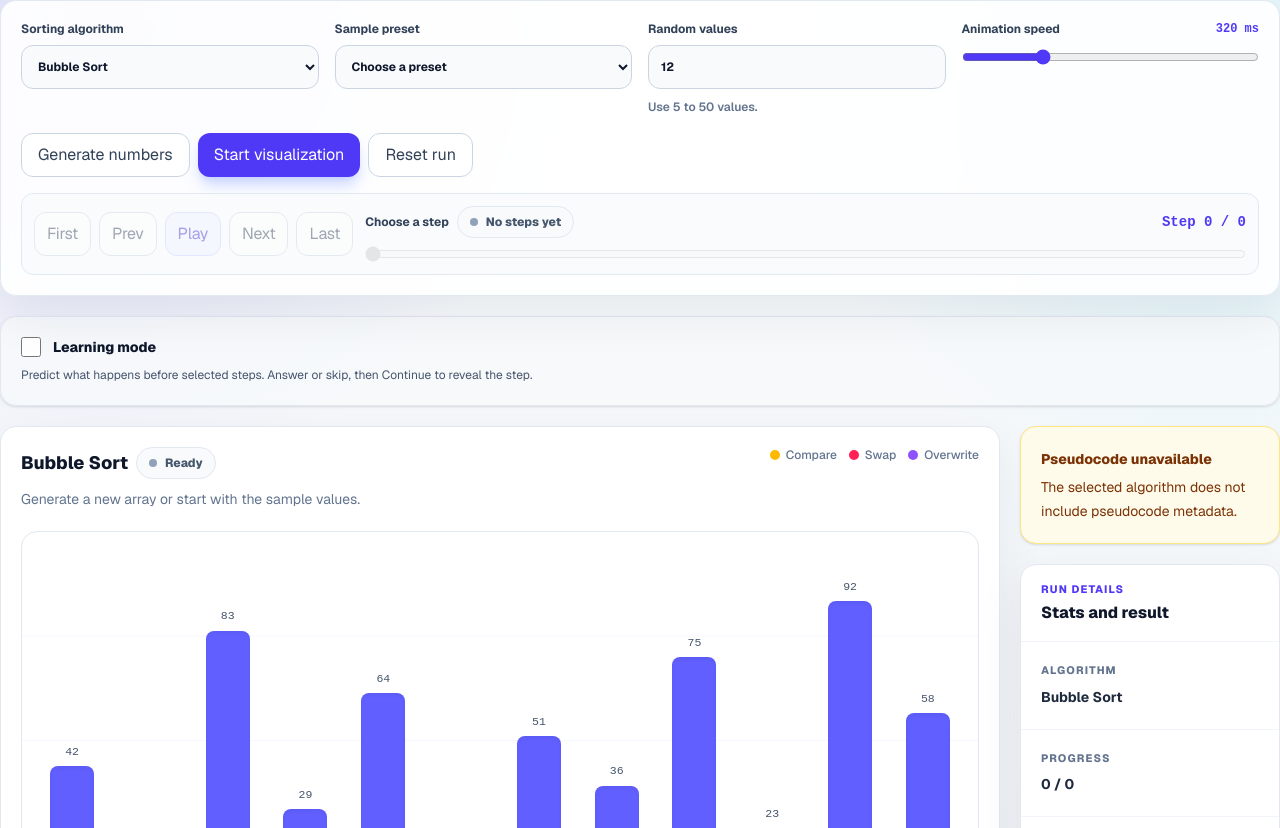
Scenario: visualizer learning integration › wires learning checkpoints and reset in sorting
The image size is (1280, 828).
Click the checkbox labelled "Learning mode" at (31,347), box x1=21 y1=337 x2=41 y2=357
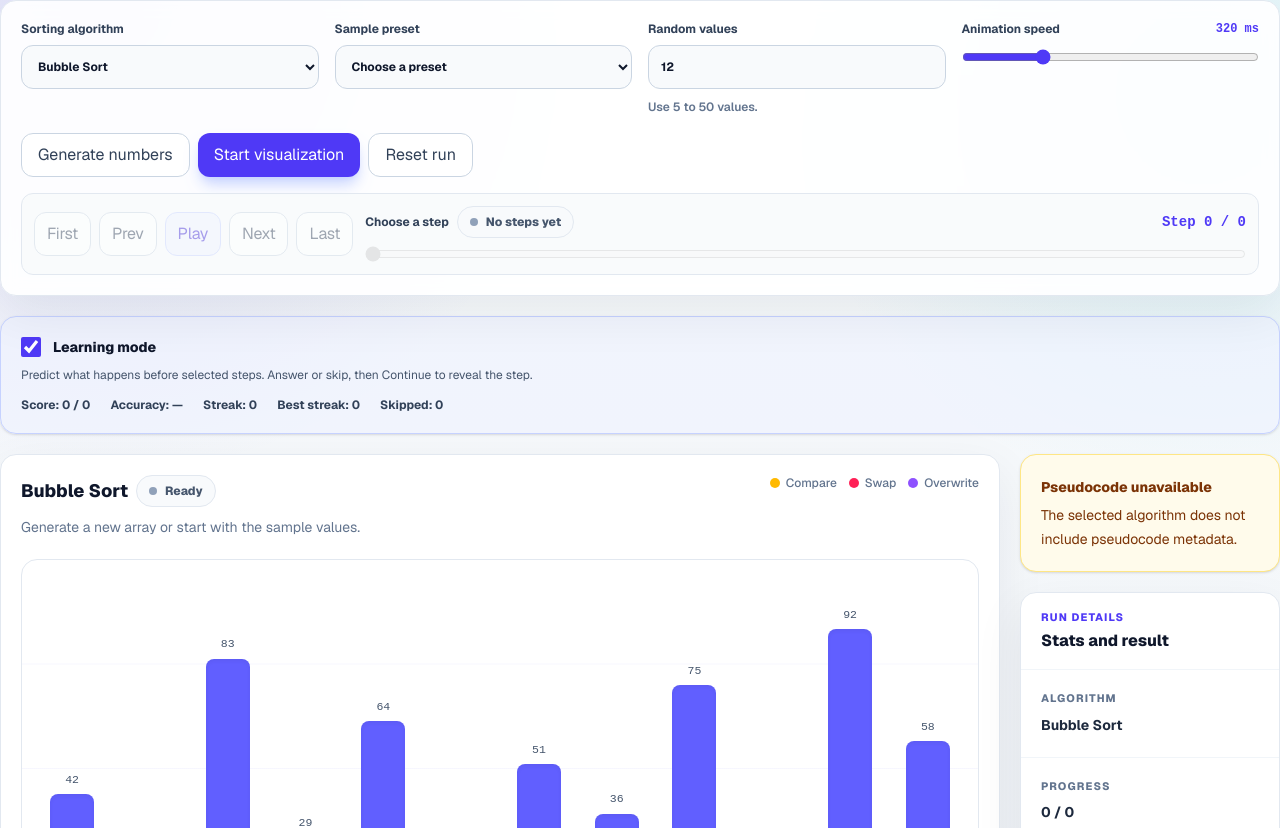
Click the button "Start visualization" at (279,155), box x1=198 y1=133 x2=360 y2=177
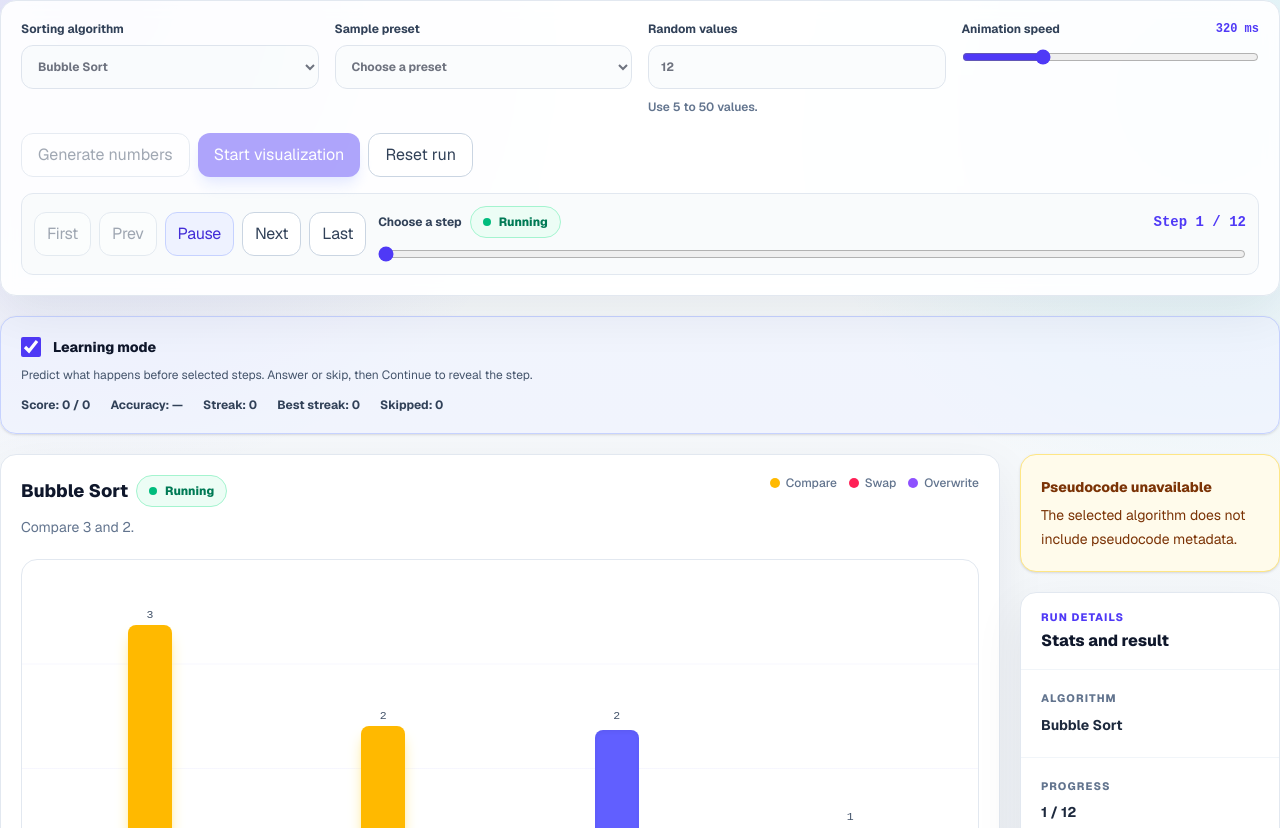
Now the button with aria-label "Jump to last step" is enabled
Click the button with aria-label "Jump to last step" at (338,234), box x1=309 y1=212 x2=366 y2=256
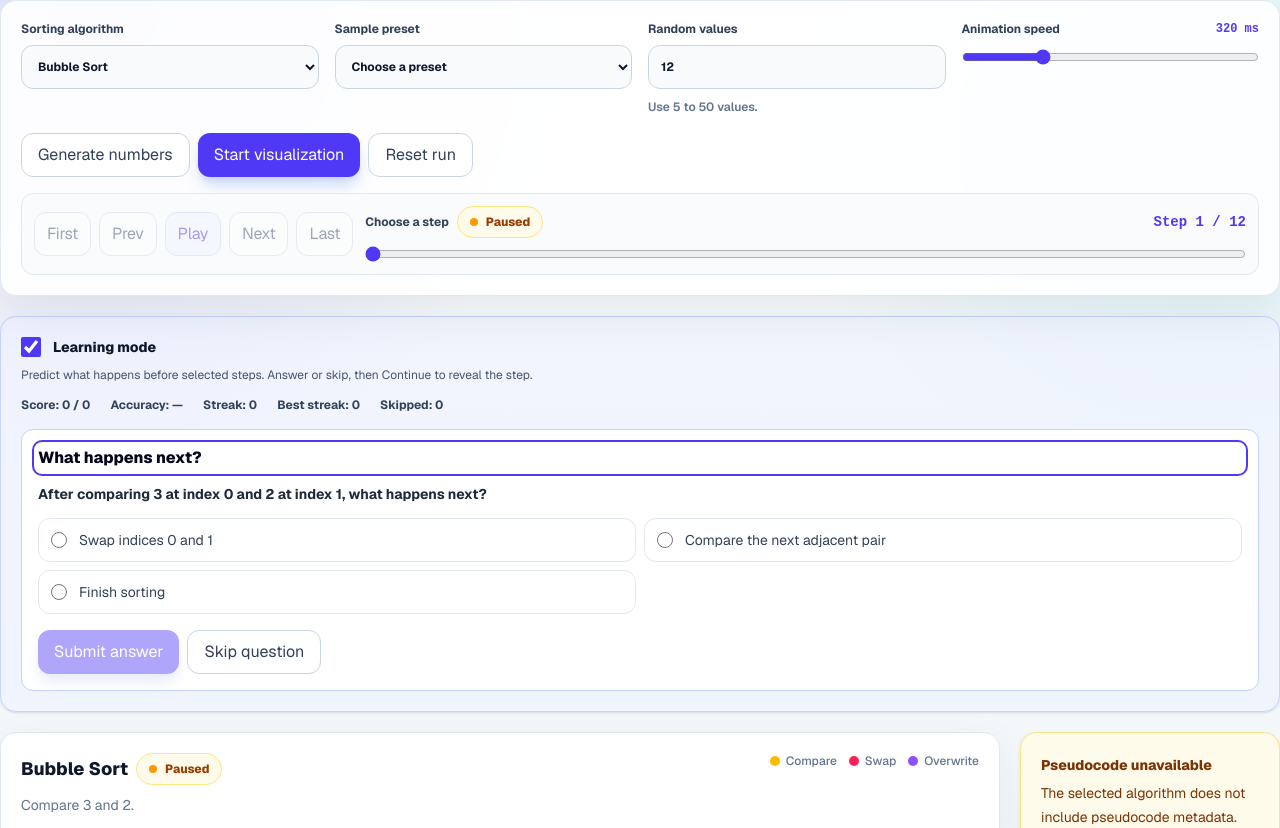
Now the heading "What happens next?" is shown, box x1=38 y1=447 x2=202 y2=468
Click the button "Skip question" at (254,652), box x1=187 y1=630 x2=321 y2=674
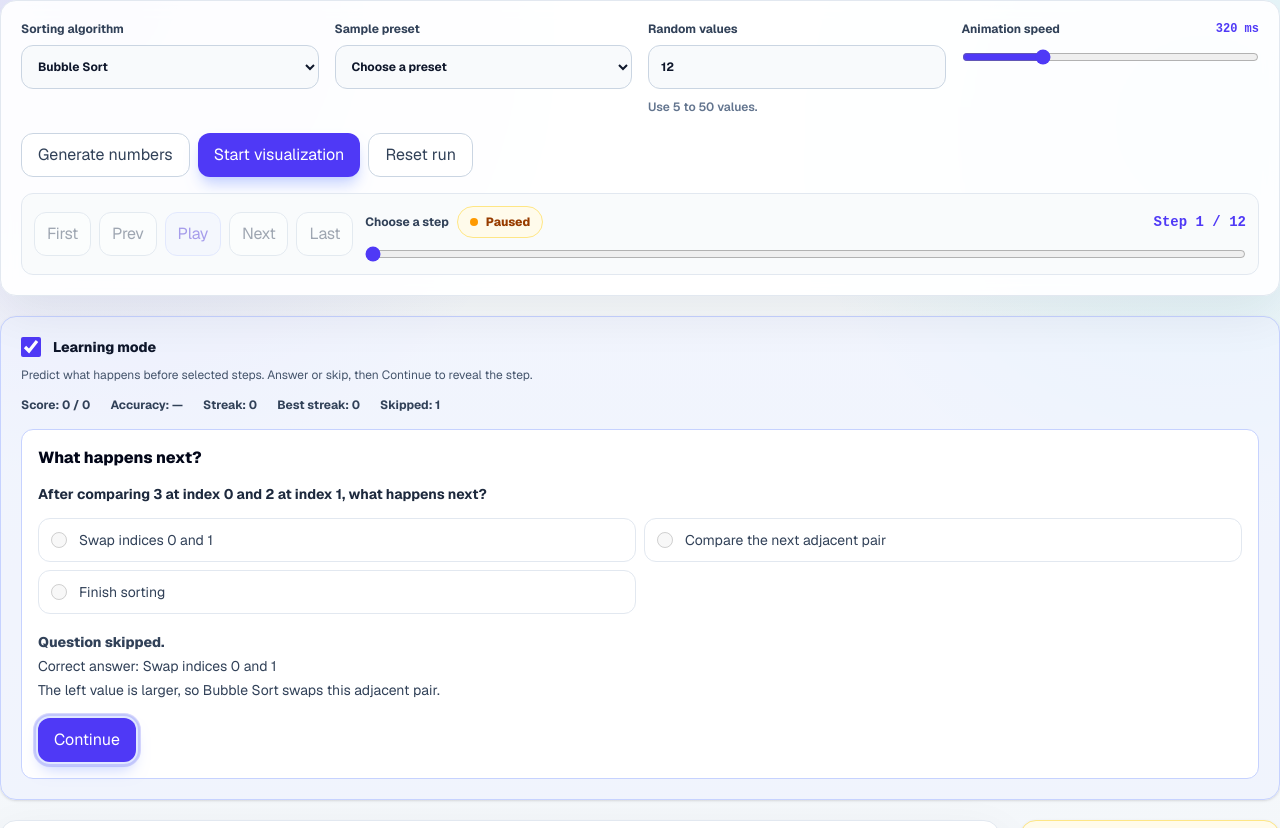
Now the text "Skipped: 1" is shown, box x1=380 y1=397 x2=440 y2=413
Click the button "Continue" at (87,740), box x1=38 y1=718 x2=136 y2=762
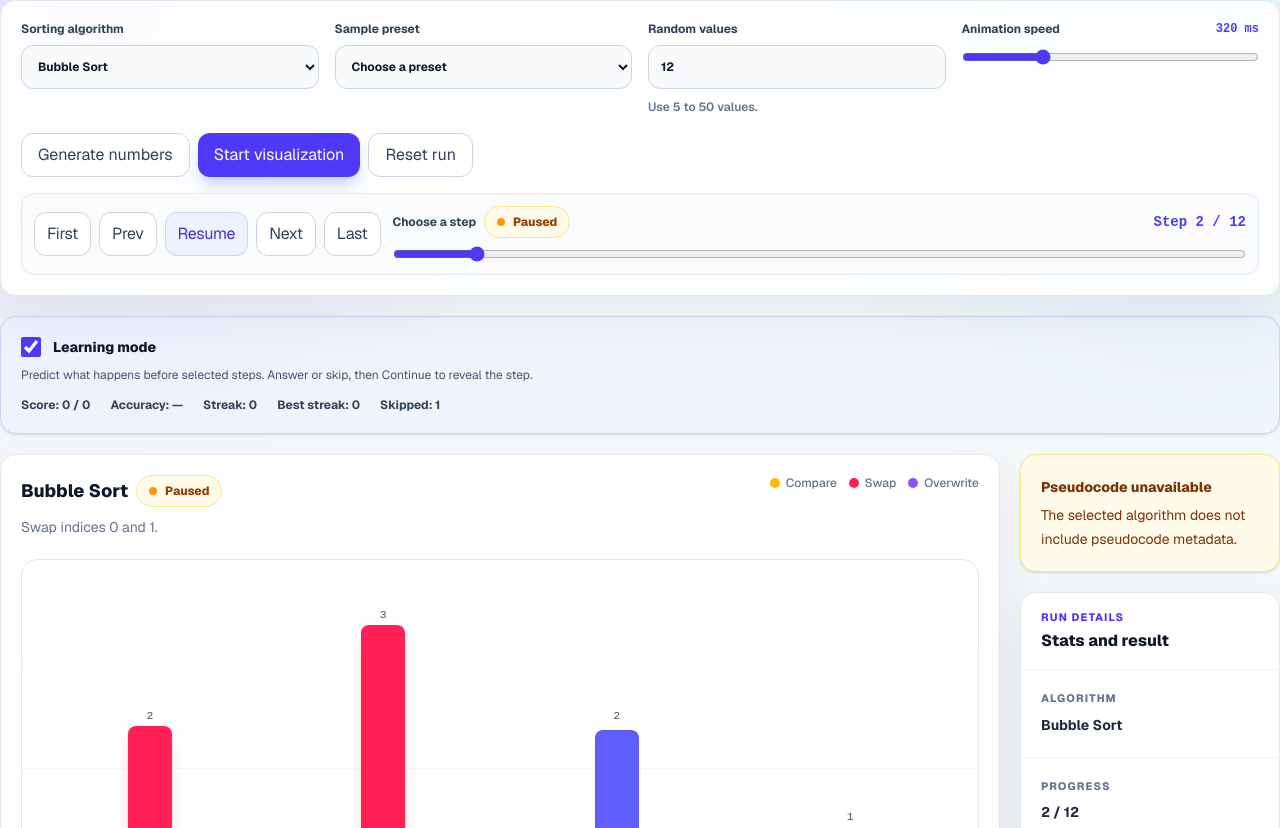
Click the button "Reset run" at (421,155), box x1=368 y1=133 x2=473 y2=177
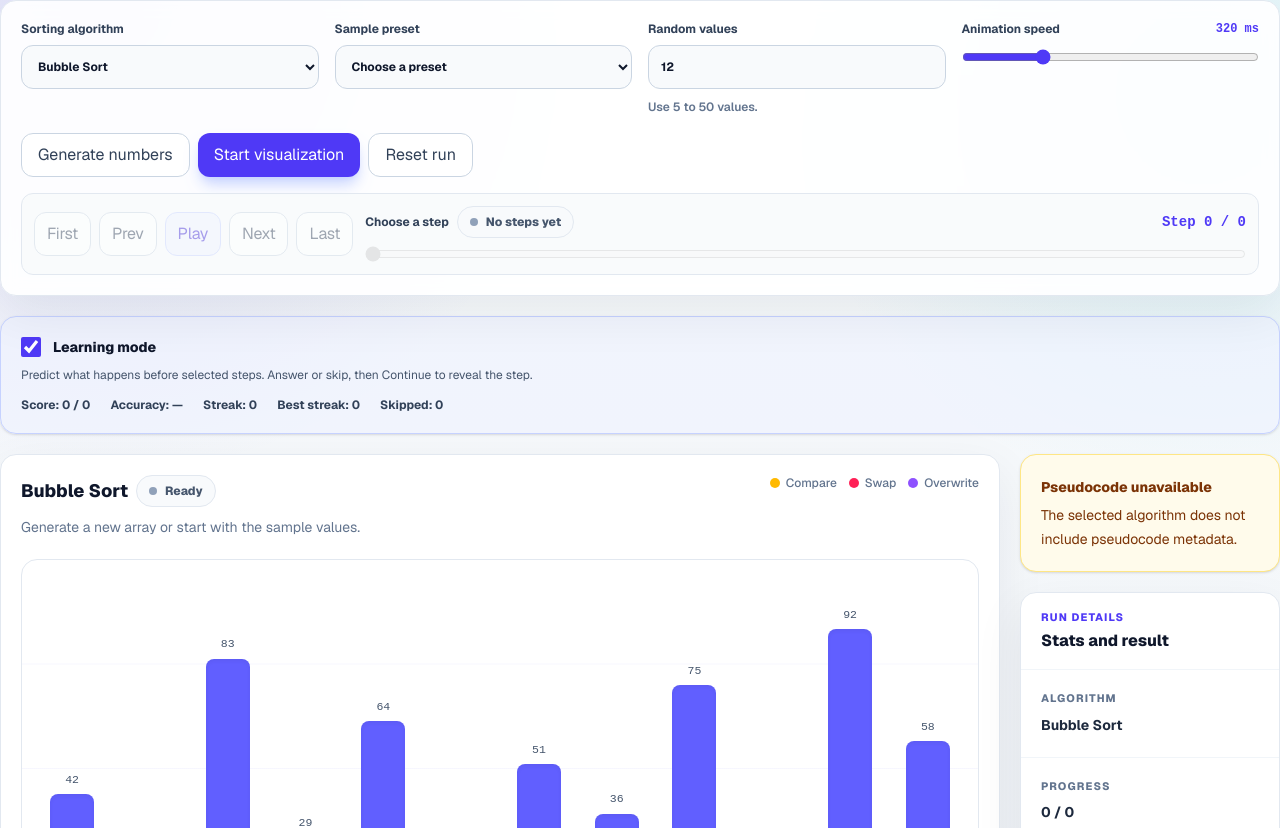
Expected: the heading "What happens next?" is not shown
Now the text "Skipped: 0" is shown, box x1=380 y1=397 x2=443 y2=413
